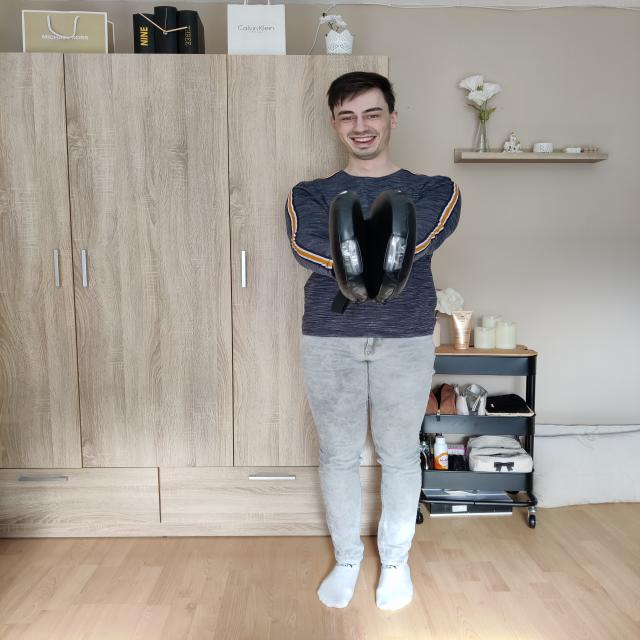paddle: (328, 187, 420, 305)
